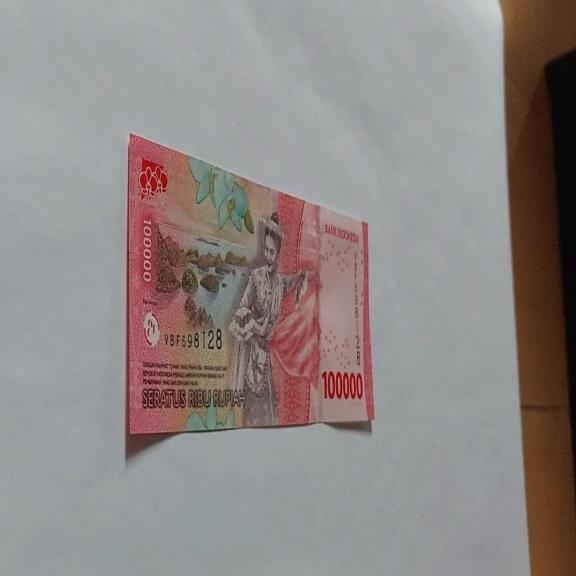Kertas: (125, 131, 375, 441), (321, 368, 364, 402)
